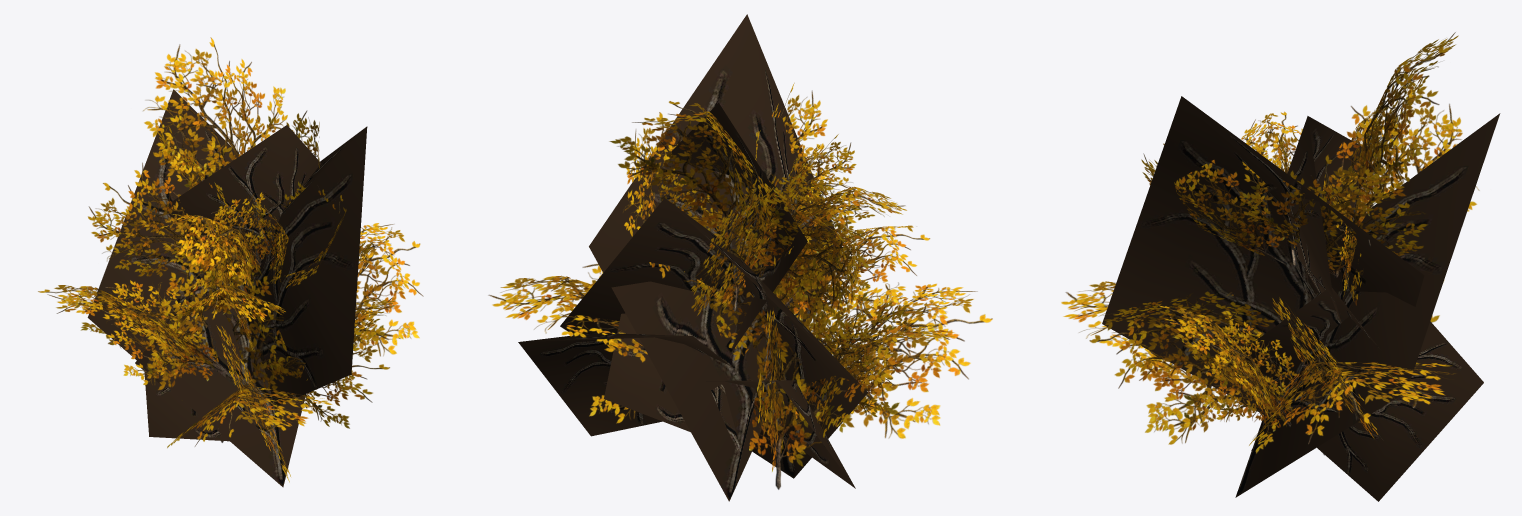
File: bush904.glb
3 renders of one model, left to right at view 1: azimuth 30°, elevation 25°; view 2: azimuth 150°, elevation 25°; view 3: azimuth 270°, elevation 25°, orthographic. The views are drawn at different scales.
Parts seen in each view (by area): view 1: bush904; view 2: bush904; view 3: bush904.
Boxes of the visible parts, x1,y1,x2,y2 form: bush904: [38, 37, 423, 487]; bush904: [488, 14, 992, 501]; bush904: [1061, 32, 1500, 501].
Bounding box in the file's own units: 4.34 × 3.95 × 3.39.
2 materials, 2 textured.
